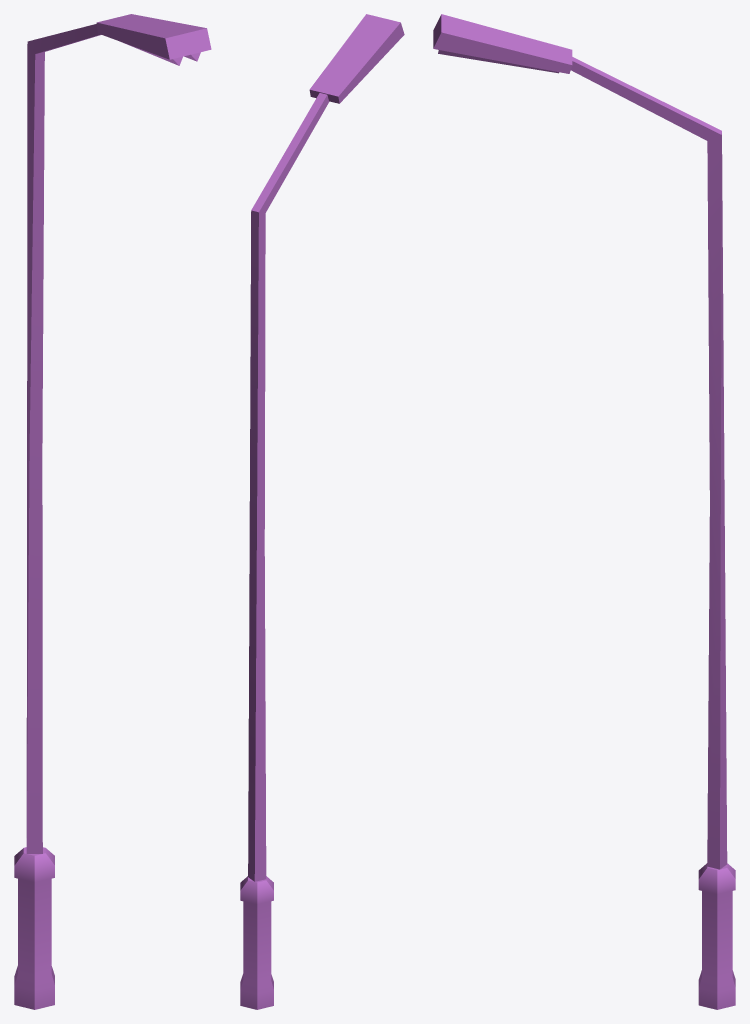
The model's file is LampPost_Tall.fbx.
3 renders of one model, left to right at view 1: azimuth 30°, elevation 25°; view 2: azimuth 150°, elevation 25°; view 3: azimuth 270°, elevation 25°, orthographic. The views are drawn at different scales.
Parts seen in each view (by area): view 1: LampPost_Tall; view 2: LampPost_Tall; view 3: LampPost_Tall.
Part boxes in pixels (x1,y1,x2,y2): LampPost_Tall: (14,14,211,1009); LampPost_Tall: (240,14,404,1009); LampPost_Tall: (433,14,735,1009).
Bounding box in the file's own units: 30.15 × 740 × 208.
